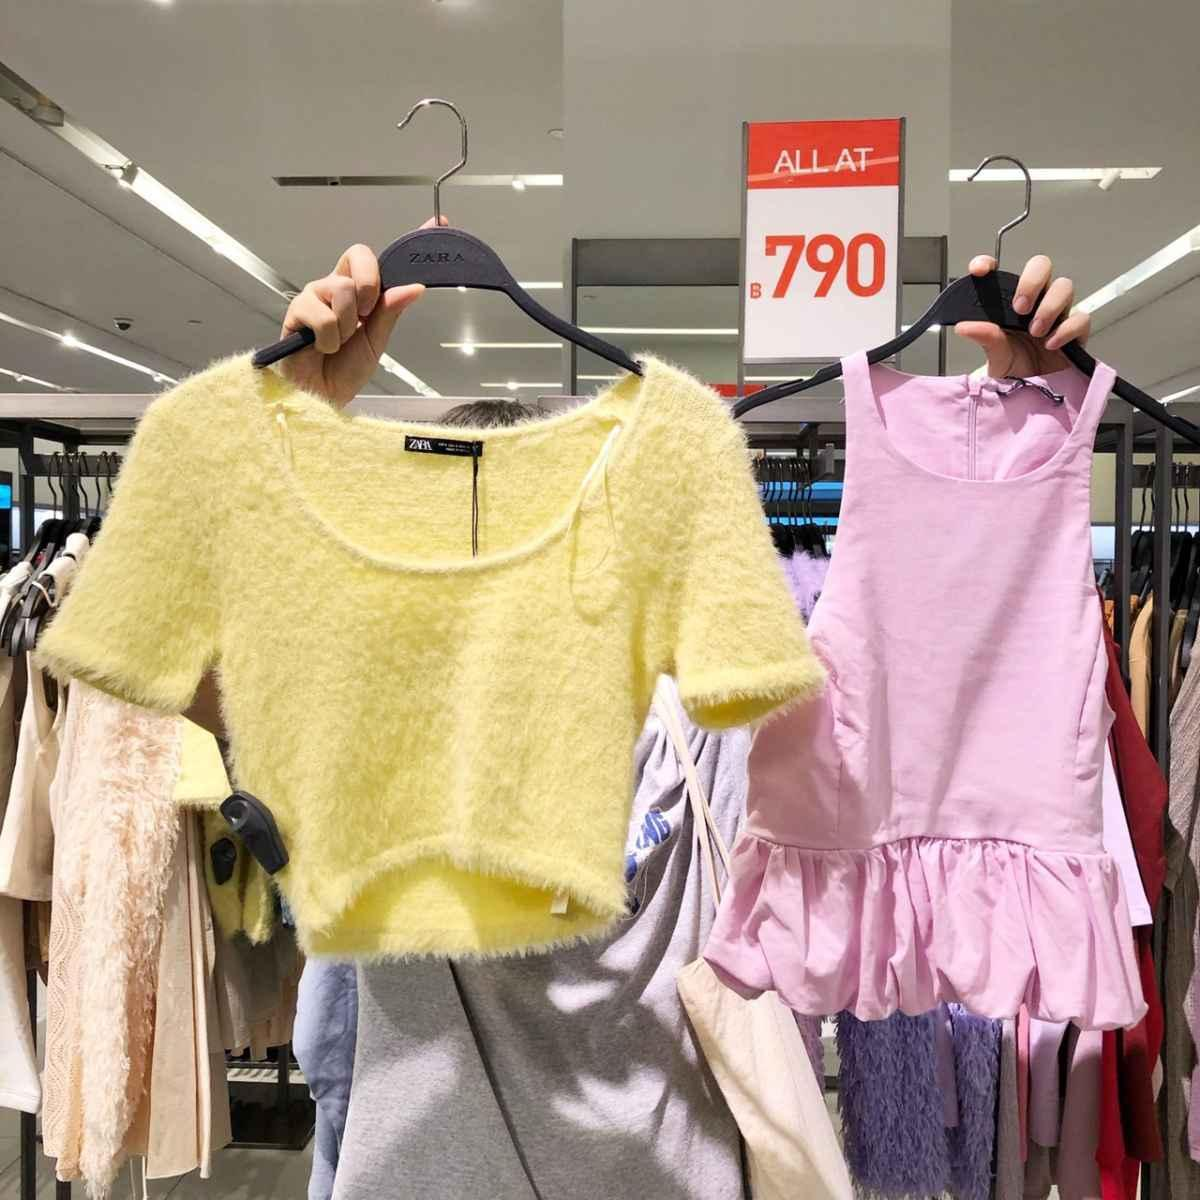Tshirt: (51, 348, 771, 941)
dress: (760, 348, 1171, 1058)
